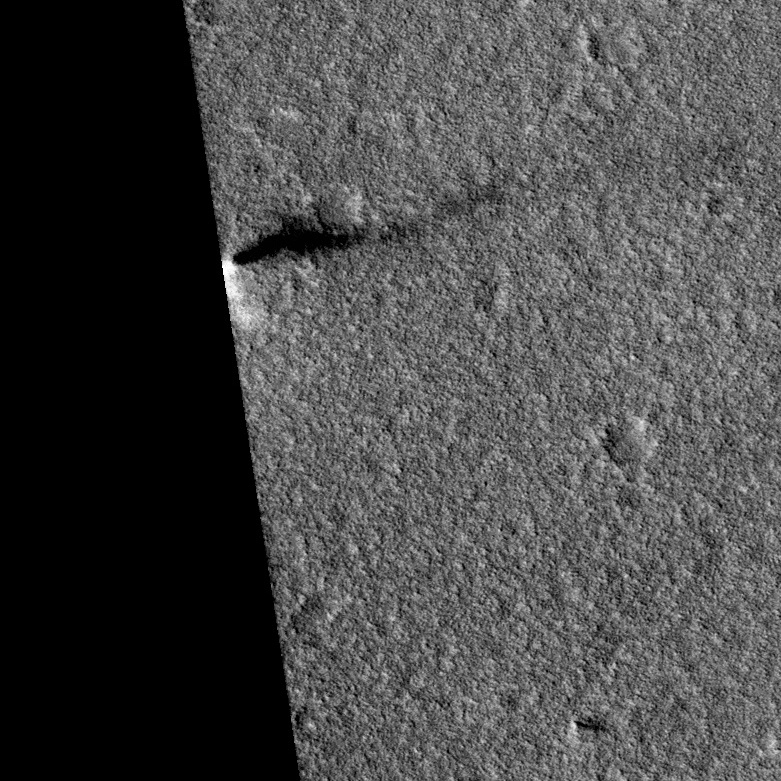dust_devil: (221, 179, 513, 300)
